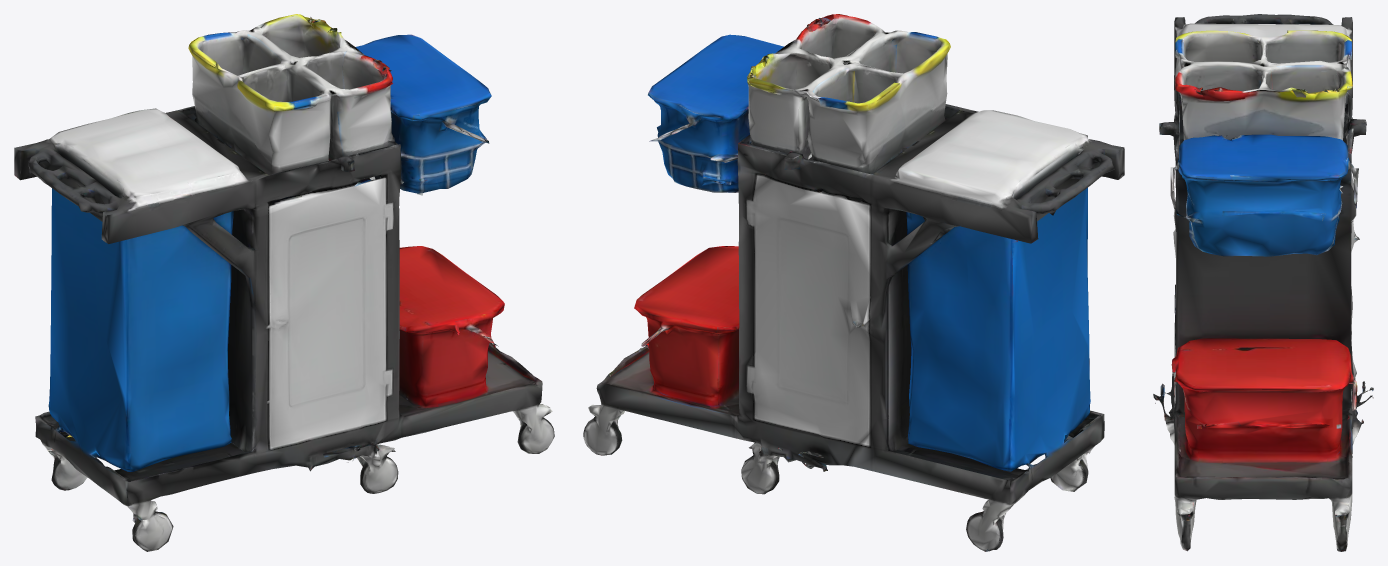
Rendered from cleaning cart.glb.
The picture shows the model from 3 angles, left to right: view 1: azimuth 30°, elevation 25°; view 2: azimuth 150°, elevation 25°; view 3: azimuth 270°, elevation 25°; orthographic projection. The views are drawn at different scales.
Visible parts, largest first — view 1: Mesh_0; view 2: Mesh_0; view 3: Mesh_0.
Boxes of the visible parts, box(x1,y1,x2,y2) form: Mesh_0: box(14, 14, 554, 551); Mesh_0: box(583, 14, 1124, 551); Mesh_0: box(1153, 14, 1373, 551).
Size of the model in its own units: 1.27 by 1.1 by 0.5524.
Materials: 1 (1 with a texture image).
